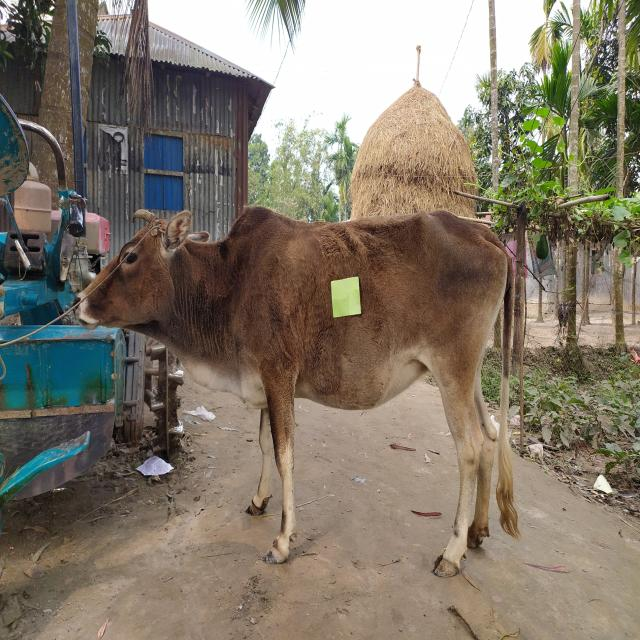badan_sapi: (264, 221, 492, 410)
sapi: (72, 187, 541, 578)
